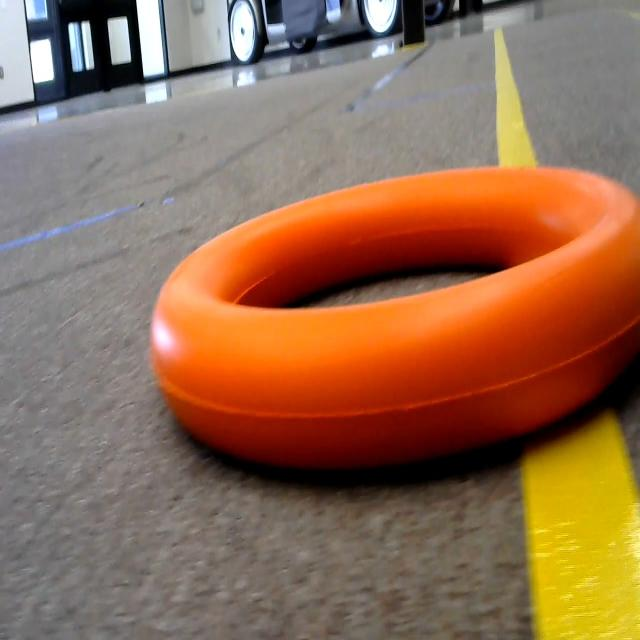note: (143, 138, 640, 492)
